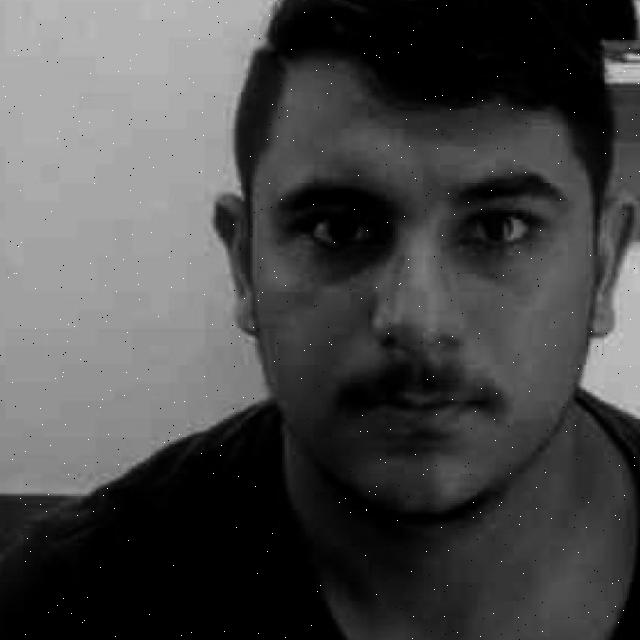puffy_eyes: (449, 249, 534, 284), (318, 250, 388, 281)
